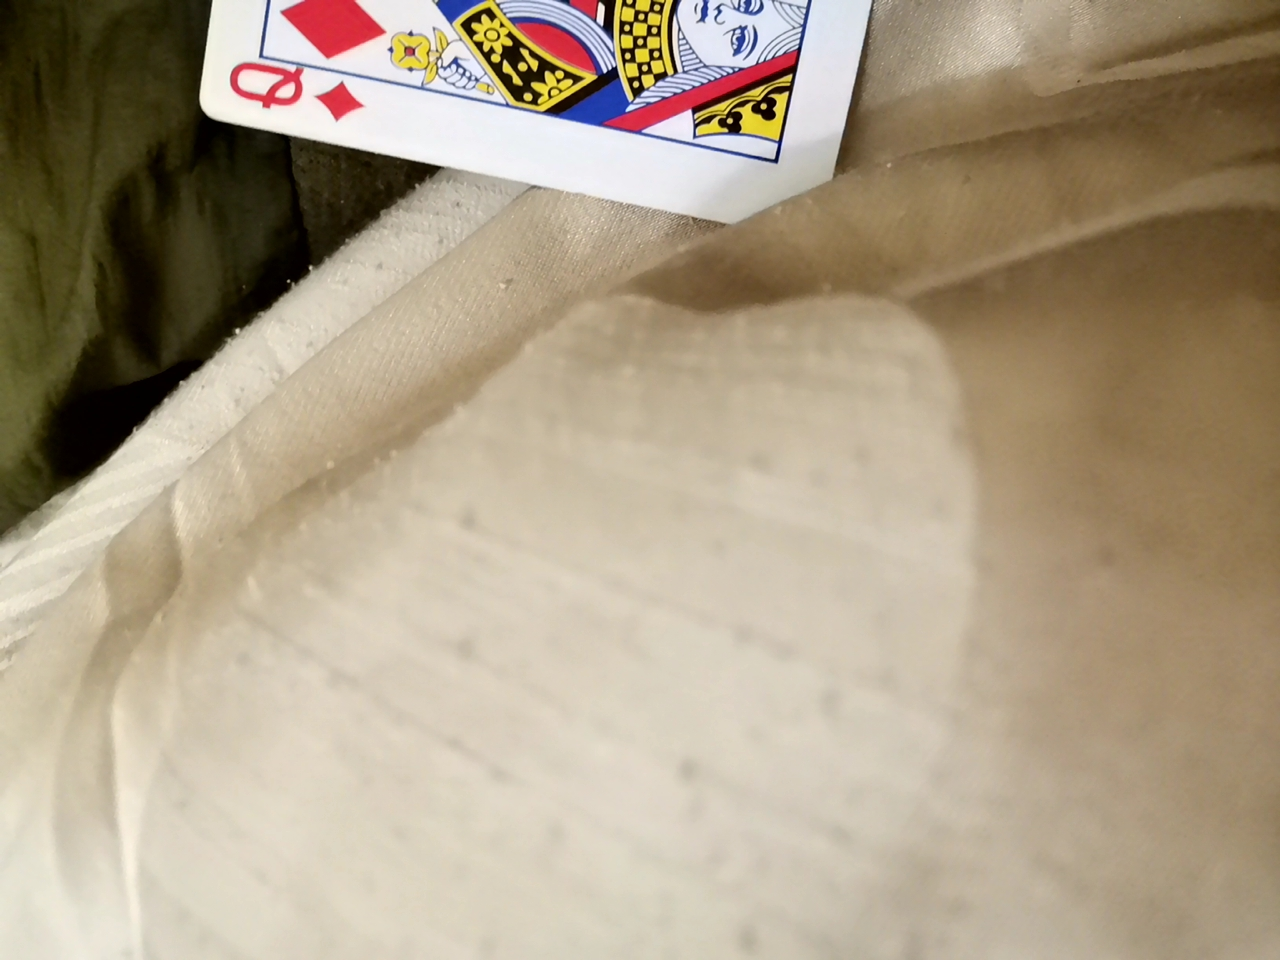fk q: (176, 0, 893, 248)
